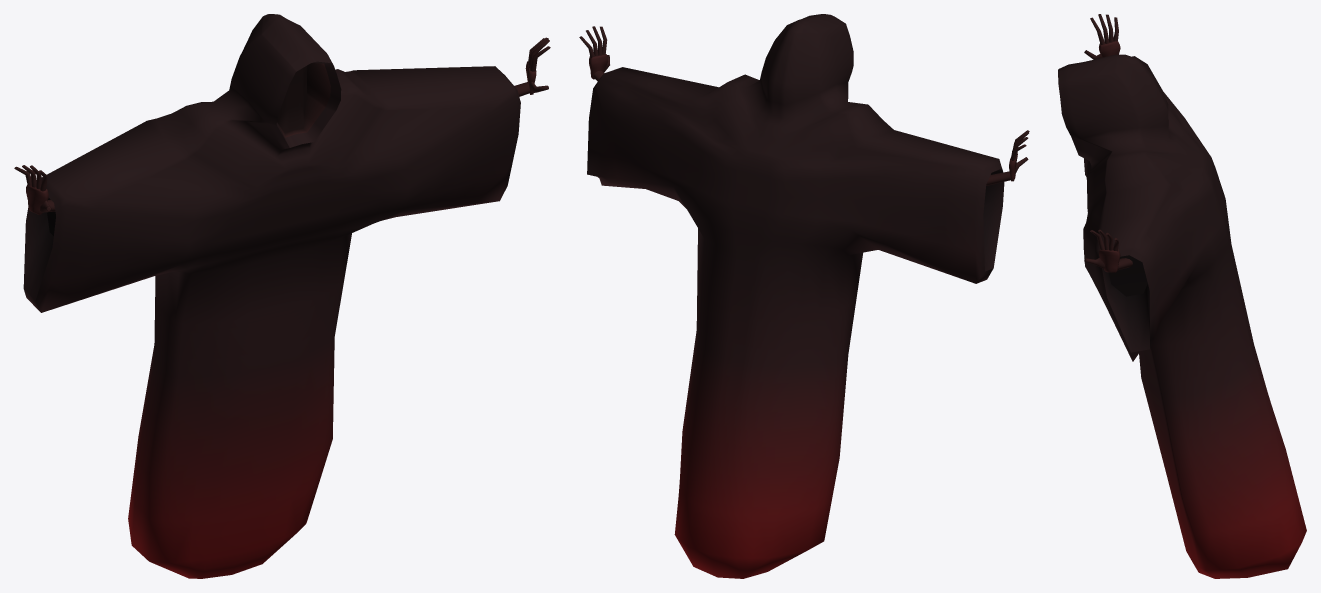
The model's file is ghost01.fbx.
3 renders of one model, left to right at view 1: azimuth 30°, elevation 25°; view 2: azimuth 150°, elevation 25°; view 3: azimuth 270°, elevation 25°, orthographic. The views are drawn at different scales.
Parts seen in each view (by area): view 1: ghost; view 2: ghost; view 3: ghost.
Boxes of the visible parts, x1,y1,x2,y2 form: ghost: (14, 14, 550, 578); ghost: (579, 14, 1029, 578); ghost: (1058, 14, 1306, 578).
Size of the model in its own units: 155 by 167 by 73.17.
